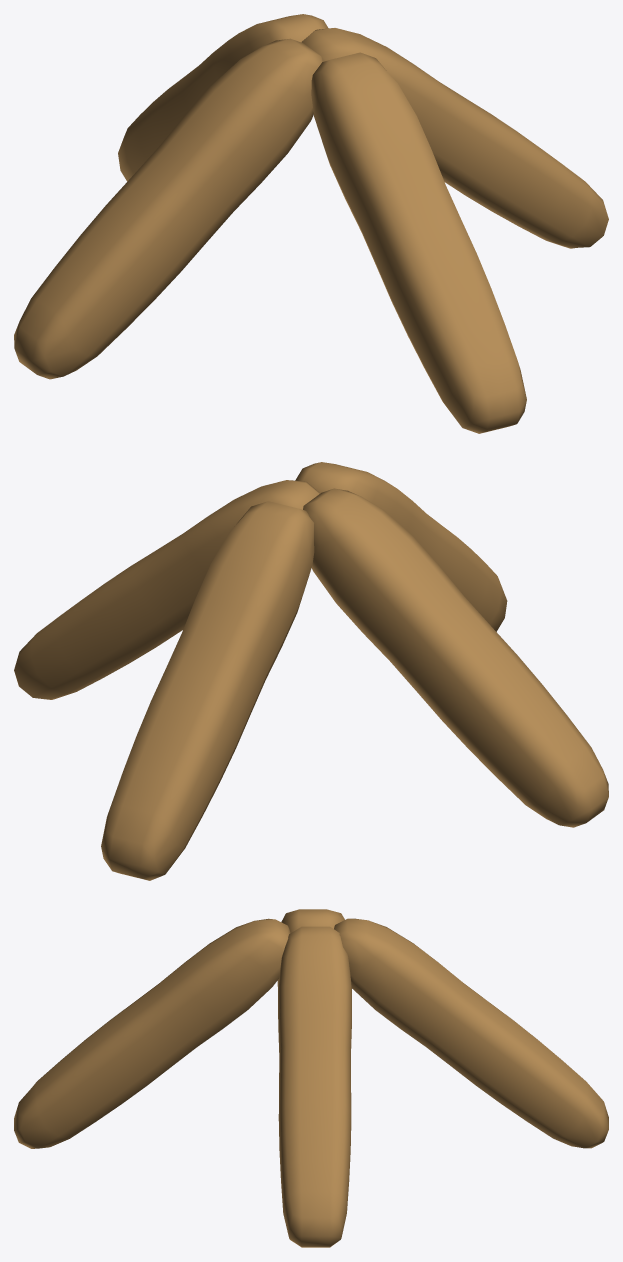
The model's file is Camp_Fire_Logs.fbx.
3 views of the same model, one above another, from view 1: azimuth 30°, elevation 25°; view 2: azimuth 150°, elevation 25°; view 3: azimuth 270°, elevation 25° (orthographic). The views are drawn at different scales.
Parts seen in each view (by area): view 1: pCube28; view 2: pCube28; view 3: pCube28.
Part boxes in pixels (<box>): pCube28: <box>14,14,608,433</box>; pCube28: <box>14,462,608,880</box>; pCube28: <box>14,909,608,1247</box>.
Bounding box in the file's own units: 20.43 × 8.95 × 22.18.
